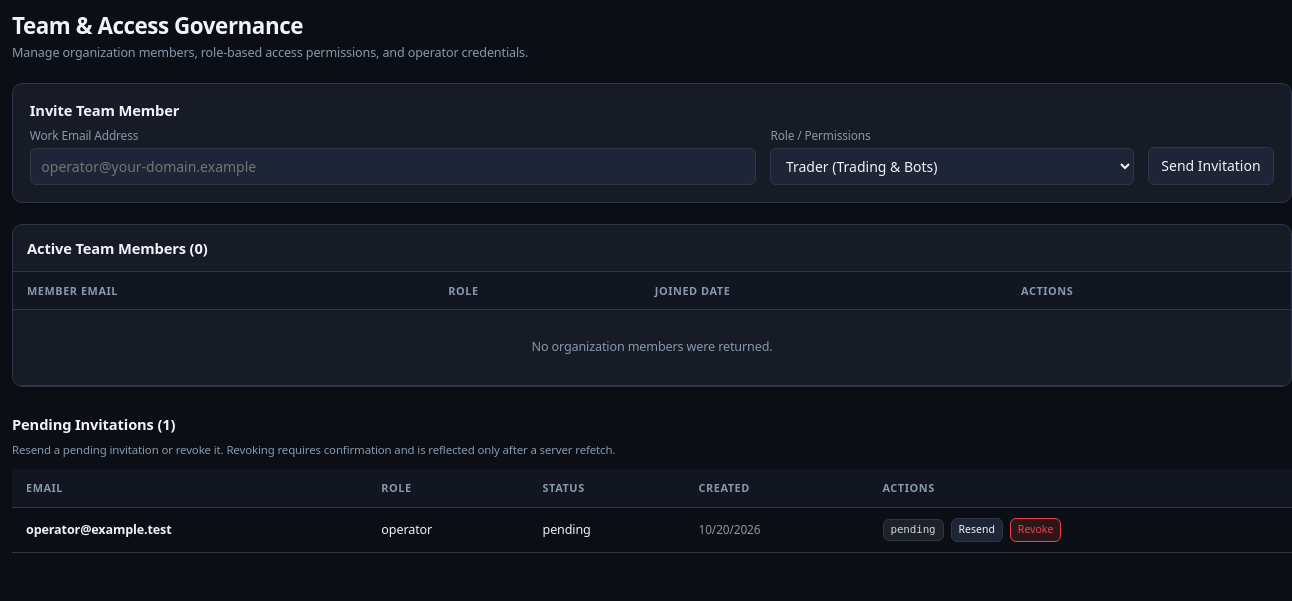
team invites › revoke deletes after confirmation and refetches invites
The width and height of the screenshot is (1292, 601).
Expected: the text "operator@example.test" is shown, x1=26 y1=520 x2=172 y2=538
Click the button "Revoke": coordinates (1036, 530) x1=1010 y1=518 x2=1061 y2=542
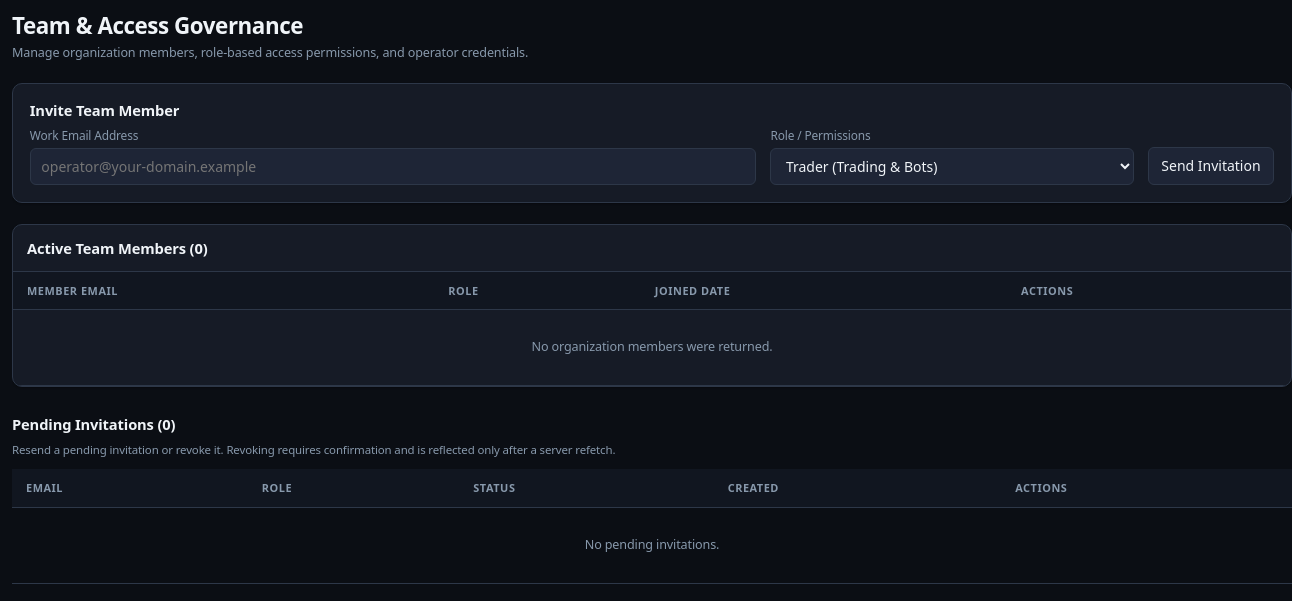
Result: the text "No pending invitations." is shown at x1=12 y1=507 x2=1291 y2=583
